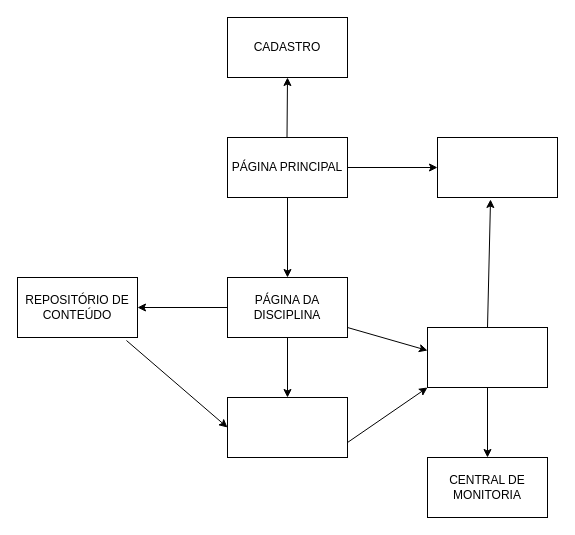
The diagram is 575 pixels wide and 535 high, and some of its shapes have lost their labels. Each missing label, with the centre of its shape:
CENTRAL DE DÚVIDAS: the point at 487,357
CENTRAL DE INFORMAÇÕES SOBRE O SITE (FAQ): the point at 497,167
PÁGINA DE FLAHCARDS: the point at 287,427
